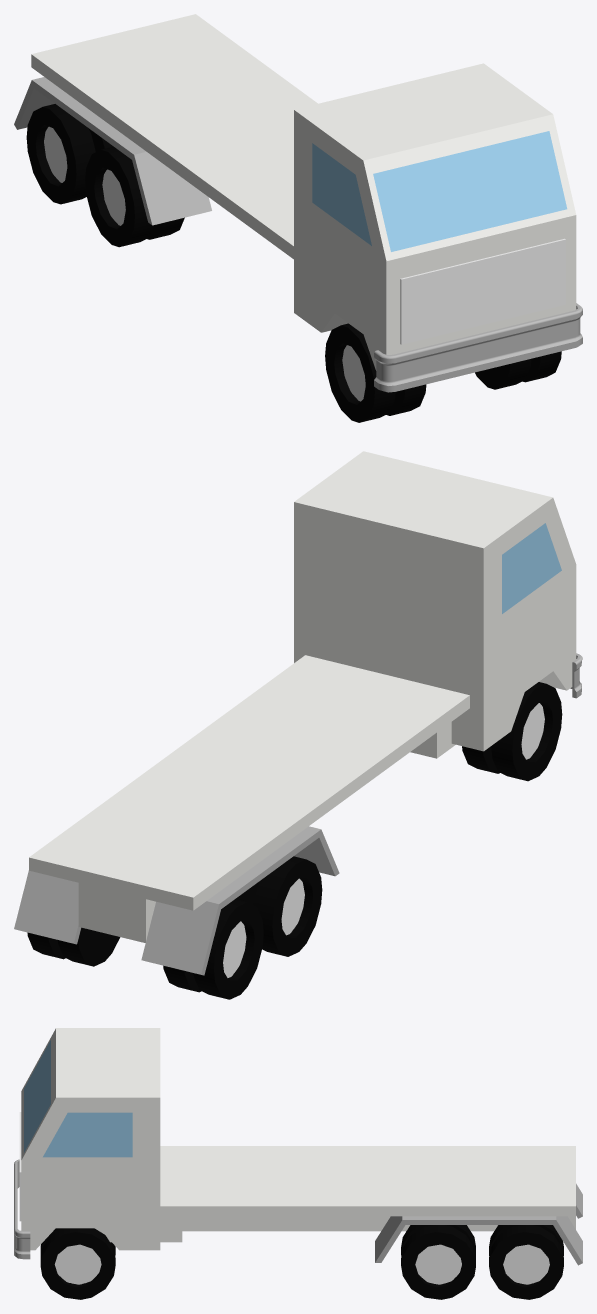
3 renders of one model, top to bottom at view 1: azimuth 30°, elevation 25°; view 2: azimuth 150°, elevation 25°; view 3: azimuth 270°, elevation 25°, orthographic. The views are drawn at different scales.
Visible parts, largest first — view 1: 拉伸 [9779828] (×2), 拉伸 [9779859], 拉伸 [9779841], 拉伸 [9779936], 放样 [9779798], 拉伸 [9779890], 拉伸 [9779966], 拉伸 [9779880], 拉伸 [9779870], 拉伸 [9779788]; view 2: 拉伸 [9779828] (×2), 拉伸 [9779859], 拉伸 [9779841], 拉伸 [9779890], 拉伸 [9779782], 拉伸 [9779901], 拉伸 [9779966], 拉伸 [9779870], 拉伸 [9779880]; view 3: 拉伸 [9779859], 拉伸 [9779828] (×2), 拉伸 [9779788], 拉伸 [9779982], 拉伸 [9779782], 拉伸 [9779901], 拉伸 [9779870], 放样 [9779798].
Part boxes in pixels (bbox=[...]): 拉伸 [9779828] (×2): bbox=[294, 63, 576, 370]; 拉伸 [9779859]: bbox=[31, 14, 317, 259]; 拉伸 [9779841]: bbox=[26, 104, 395, 422]; 拉伸 [9779936]: bbox=[400, 238, 565, 344]; 放样 [9779798]: bbox=[374, 303, 582, 392]; 拉伸 [9779890]: bbox=[14, 77, 211, 225]; 拉伸 [9779966]: bbox=[44, 126, 365, 401]; 拉伸 [9779880]: bbox=[88, 128, 426, 415]; 拉伸 [9779870]: bbox=[475, 359, 531, 389]; 拉伸 [9779788]: bbox=[522, 351, 561, 382]; 拉伸 [9779828] (×2): bbox=[294, 451, 576, 751]; 拉伸 [9779859]: bbox=[29, 655, 469, 910]; 拉伸 [9779841]: bbox=[193, 682, 562, 999]; 拉伸 [9779890]: bbox=[141, 826, 339, 975]; 拉伸 [9779782]: bbox=[78, 722, 455, 942]; 拉伸 [9779901]: bbox=[14, 870, 80, 944]; 拉伸 [9779966]: bbox=[223, 703, 544, 977]; 拉伸 [9779870]: bbox=[57, 927, 120, 966]; 拉伸 [9779880]: bbox=[163, 746, 499, 992]; 拉伸 [9779859]: bbox=[160, 1146, 575, 1216]; 拉伸 [9779828] (×2): bbox=[21, 1028, 160, 1250]; 拉伸 [9779788]: bbox=[40, 1225, 563, 1299]; 拉伸 [9779982]: bbox=[54, 1244, 549, 1284]; 拉伸 [9779782]: bbox=[95, 1216, 575, 1242]; 拉伸 [9779901]: bbox=[375, 1216, 582, 1265]; 拉伸 [9779870]: bbox=[40, 1225, 563, 1256]; 放样 [9779798]: bbox=[14, 1159, 30, 1259].
Size of the model in its own units: 2.44 by 3.11 by 7.9.
